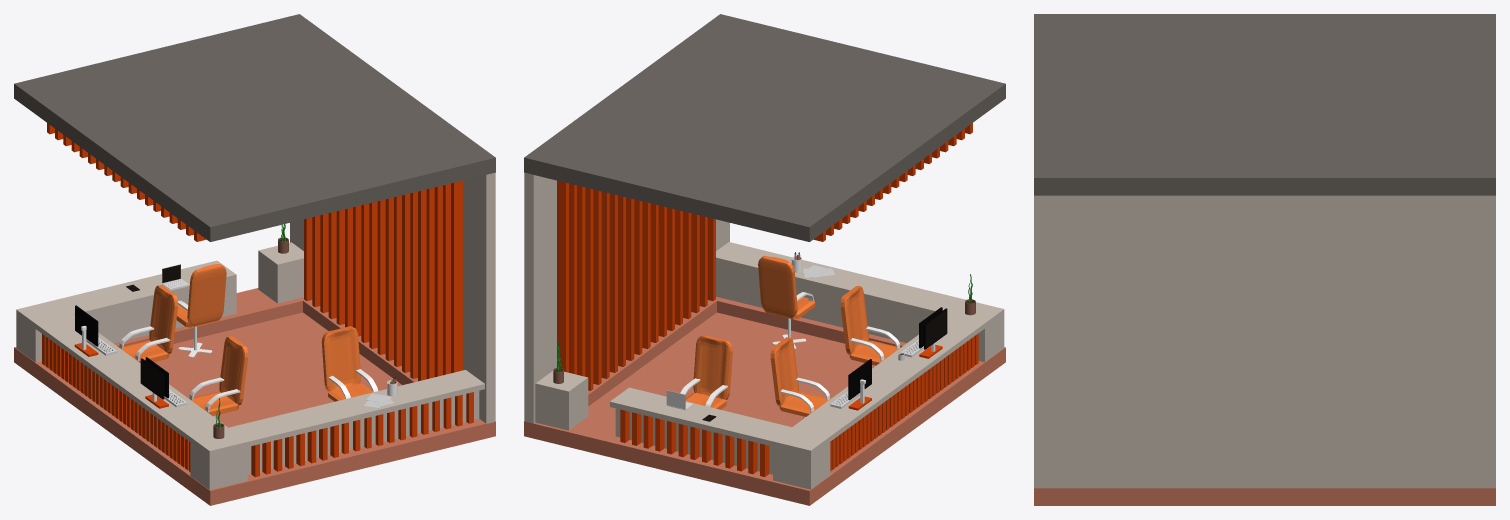
File: Task desk.fbx
The picture shows the model from 3 angles, left to right: view 1: azimuth 30°, elevation 25°; view 2: azimuth 150°, elevation 25°; view 3: azimuth 270°, elevation 25°; orthographic projection. The views are drawn at different scales.
Visible parts, largest first — view 1: Cube.112, Cube.232, Cube.113, Cube.111, Cube.157, Cube.246, Cube.031, Cube.155, Cube.114, Cube.154, Cube.141, Cube.156 (+19 smaller); view 2: Cube.112, Cube.113, Cube.232, Cube.111, Cube.153, Cube.031, Cube.246, Cube.150, Cube.149, Cube.151, Cube.148, Cube.147 (+19 smaller); view 3: Cube.111, Cube.112, Cube.232.
Part boxes in pixels (x1,y1,x2,y2): Cube.112: [14, 14, 495, 241]; Cube.232: [14, 288, 495, 505]; Cube.113: [16, 242, 484, 489]; Cube.111: [290, 172, 495, 423]; Cube.157: [194, 180, 462, 373]; Cube.246: [321, 326, 360, 391]; Cube.031: [187, 264, 226, 326]; Cube.155: [177, 185, 442, 376]; Cube.114: [161, 189, 426, 381]; Cube.154: [169, 187, 434, 378]; Cube.141: [145, 193, 410, 372]; Cube.156: [186, 183, 450, 375]; Cube.112: [524, 14, 1005, 241]; Cube.113: [535, 242, 1004, 489]; Cube.232: [524, 296, 1005, 505]; Cube.111: [524, 172, 729, 423]; Cube.153: [557, 180, 825, 372]; Cube.031: [693, 335, 732, 399]; Cube.246: [758, 255, 797, 317]; Cube.150: [585, 187, 850, 390]; Cube.149: [593, 189, 858, 384]; Cube.151: [577, 185, 842, 376]; Cube.148: [601, 191, 866, 378]; Cube.147: [609, 193, 874, 372]; Cube.111: [1034, 195, 1495, 488]; Cube.112: [1034, 14, 1495, 195]; Cube.232: [1034, 488, 1495, 505].
Bounding box in the file's own units: 600 × 560 × 714.
